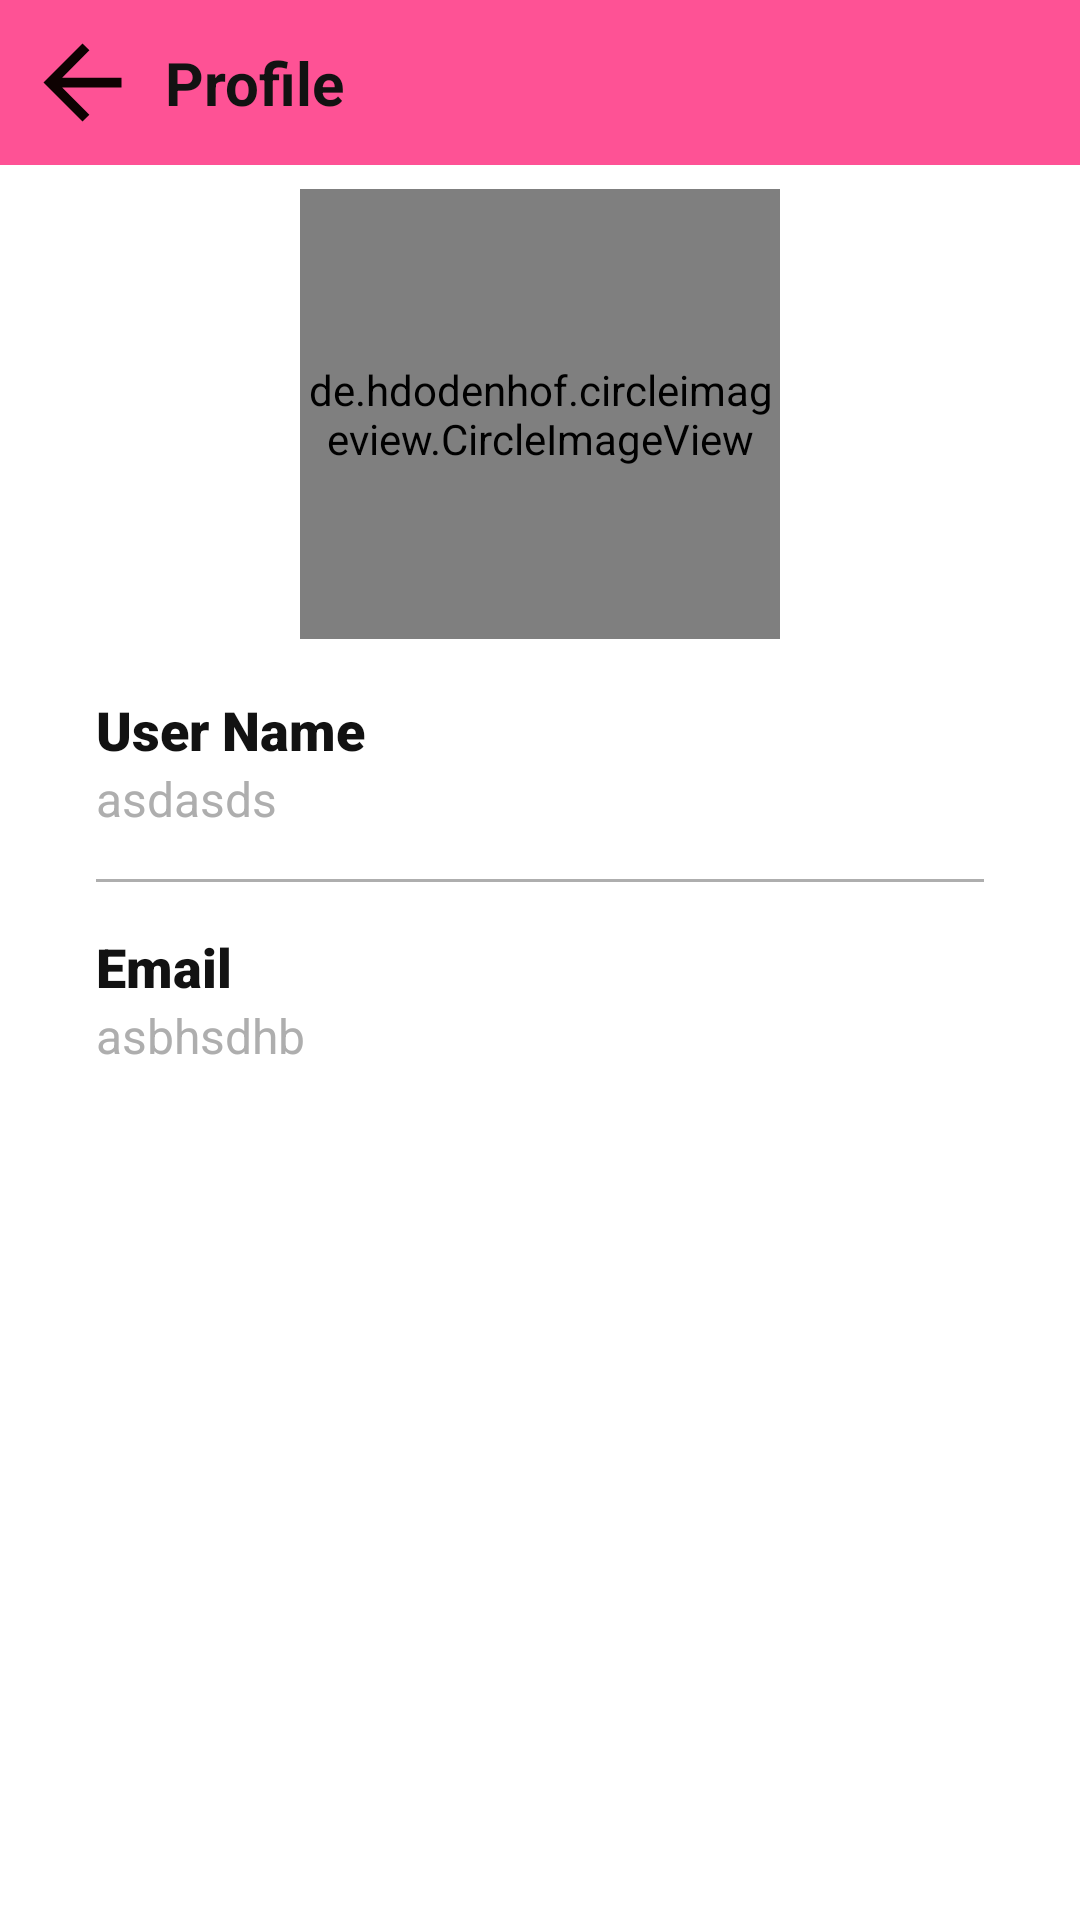

Where icons sit on this 1080w x 1920h app screen, as (x1, y1, x2, y2):
arrow back: (43, 43, 122, 122)
